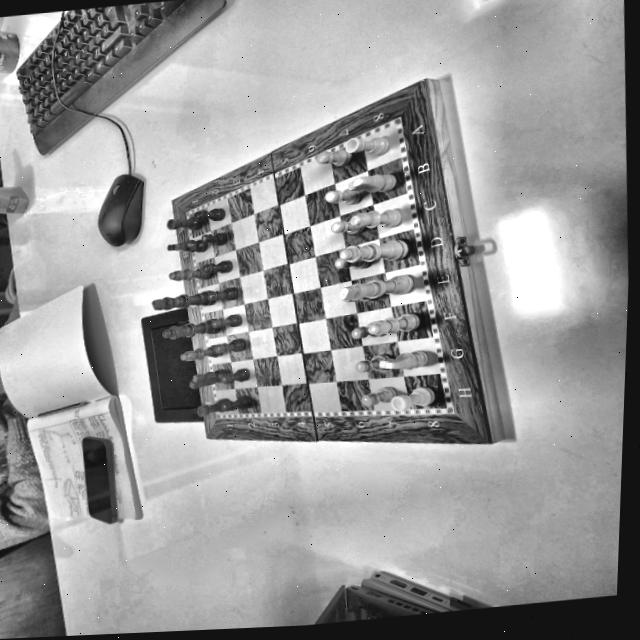black-bishop: (178, 341, 225, 361), (168, 264, 213, 282)
black-king: (150, 288, 217, 310)
black-knight: (187, 366, 229, 390), (166, 237, 209, 255)
black-pawn: (214, 334, 250, 355), (220, 365, 252, 386), (221, 392, 255, 411), (210, 311, 244, 330), (201, 258, 235, 275), (200, 228, 230, 247), (194, 206, 226, 222), (205, 286, 238, 301)
black-queen: (160, 316, 220, 339)
black-rook: (195, 394, 231, 418), (166, 214, 204, 231)
white-bishop: (366, 311, 422, 337), (349, 205, 401, 230)
white-king: (338, 270, 415, 302)
white-knight: (377, 346, 429, 375), (349, 168, 400, 195)
white-pawn: (352, 351, 390, 375), (361, 383, 397, 407), (315, 146, 354, 168), (322, 186, 363, 206), (331, 217, 367, 237), (336, 252, 372, 271), (351, 321, 387, 340)
white-queen: (337, 236, 411, 265)
white-rook: (390, 380, 438, 412), (346, 132, 393, 158)
